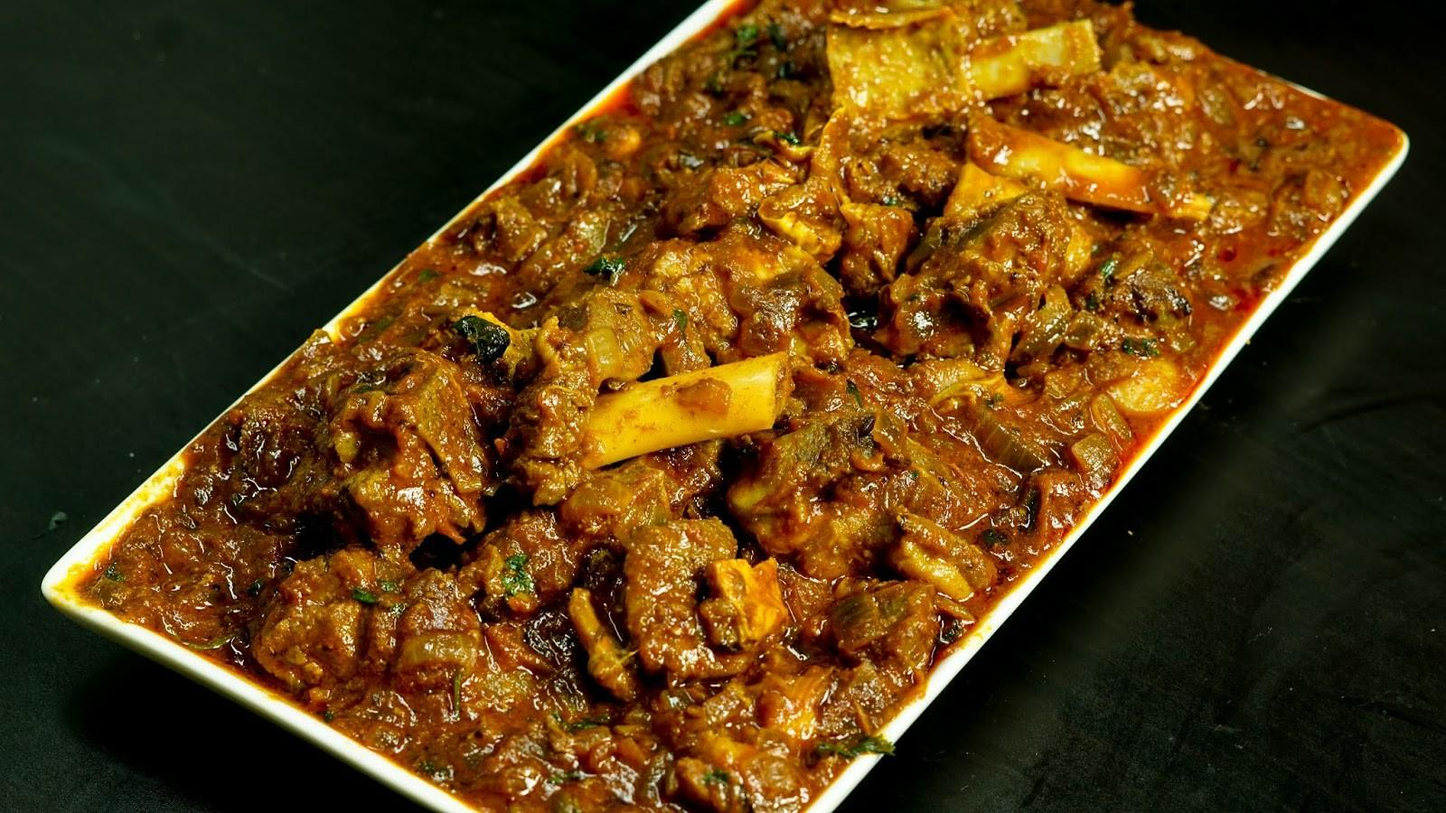MuttonCurry: (81, 0, 1405, 813)
